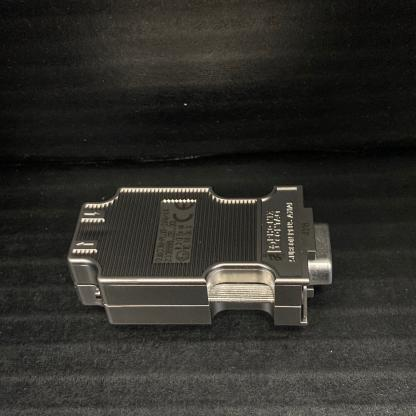SP0000010: (46, 140, 390, 346)
